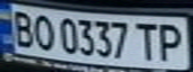0: (54, 15, 78, 54)
3: (93, 18, 115, 58), (75, 16, 93, 56)
7: (109, 18, 133, 60)
B: (6, 7, 39, 48)
O: (30, 11, 57, 52)
P: (154, 20, 190, 63)
T: (133, 19, 163, 61)
